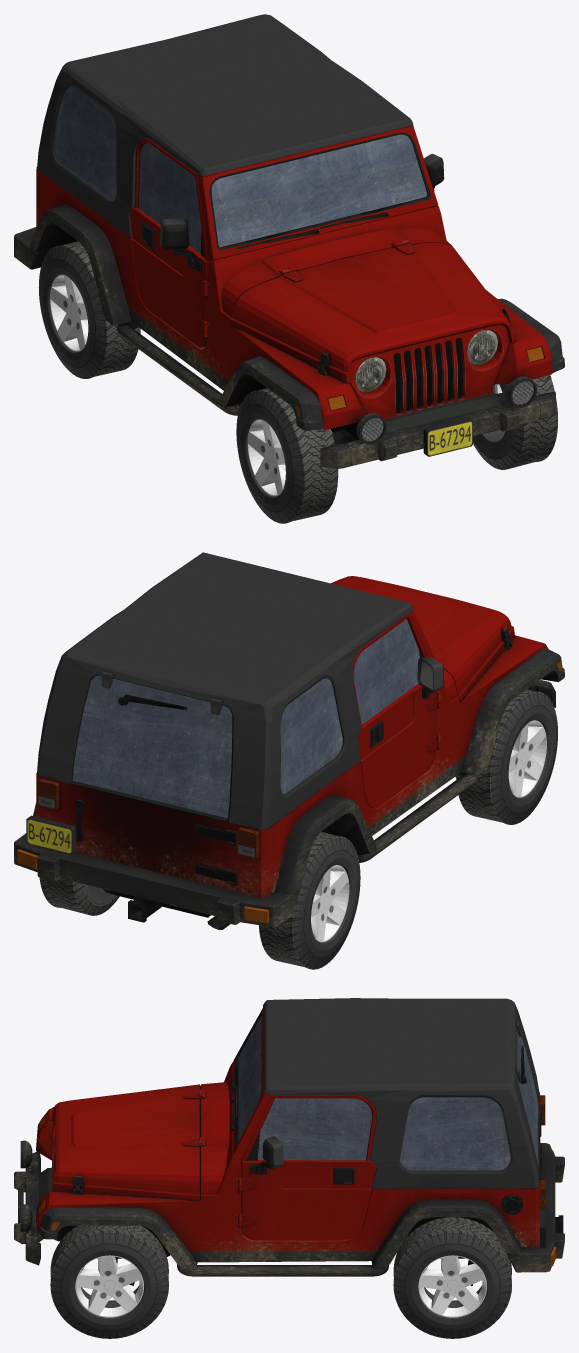
Rendered from jalees _01.fbx.
3 views of the same model, one above another, from view 1: azimuth 30°, elevation 25°; view 2: azimuth 150°, elevation 25°; view 3: azimuth 270°, elevation 25° (orthographic). The views are drawn at different scales.
Parts seen in each view (by area): view 1: Body2, FR, RR, FL; view 2: Body2, FR, RR, RL; view 3: Body2, RL, FL.
Boxes of the visible parts, <box> form: Body2: <box>14,14,564,468</box>; FR: <box>236,388,338,523</box>; RR: <box>38,241,140,378</box>; FL: <box>473,375,557,469</box>; Body2: <box>14,552,564,929</box>; FR: <box>456,689,557,824</box>; RR: <box>258,831,360,969</box>; RL: <box>39,877,119,915</box>; Body2: <box>14,998,564,1285</box>; RL: <box>393,1217,511,1338</box>; FL: <box>50,1225,168,1338</box>.
Size of the model in its own units: 92.31 by 88.02 by 180.
5 materials, 5 textured.
